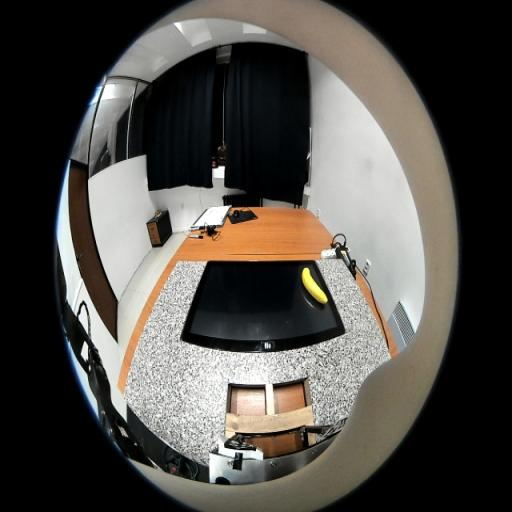Banana: (302, 266, 328, 304)
